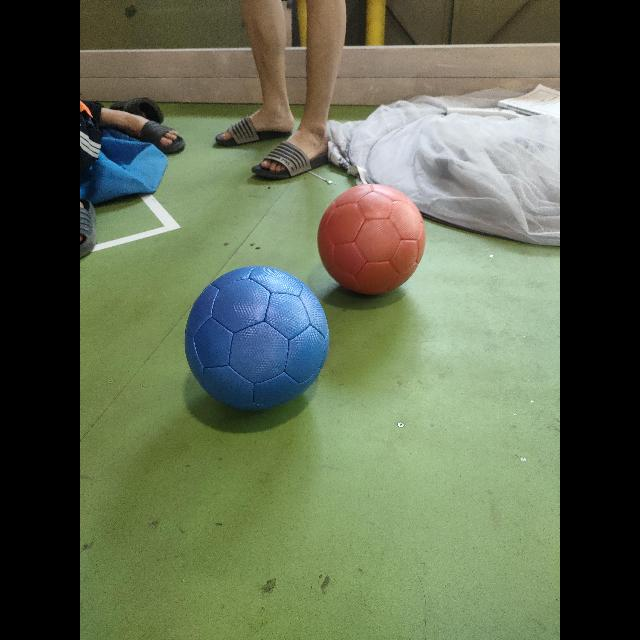B: (186, 265, 330, 415)
R: (318, 182, 424, 296)
